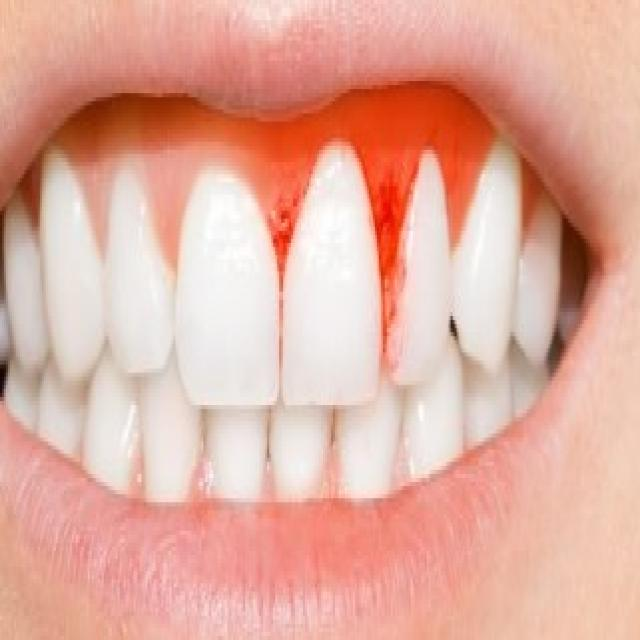Gingivitis: (371, 162, 405, 308), (275, 207, 293, 276)
